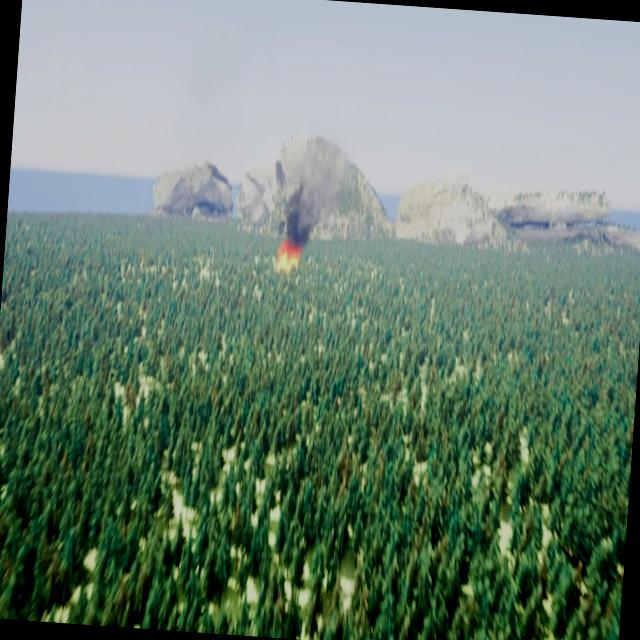fire: (274, 237, 302, 273)
smoke: (284, 144, 339, 240)
